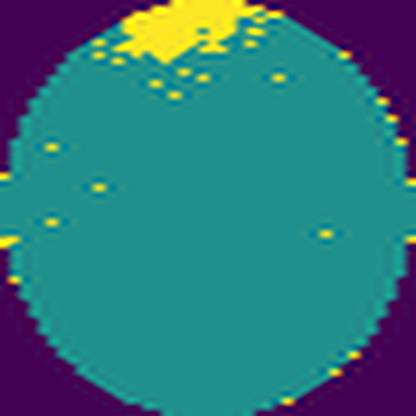Edge-Loc: (111, 0, 273, 68)
